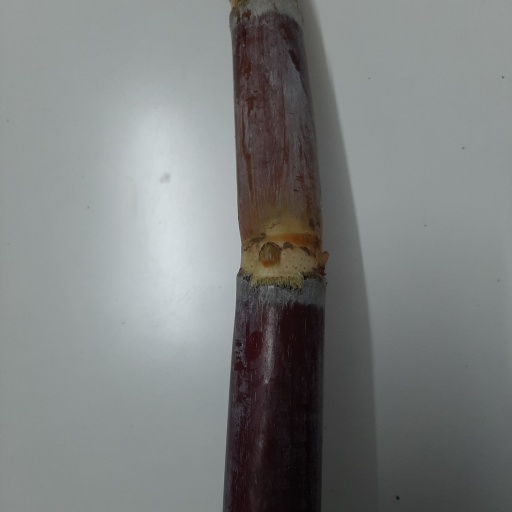Bud: (257, 243, 281, 267)
